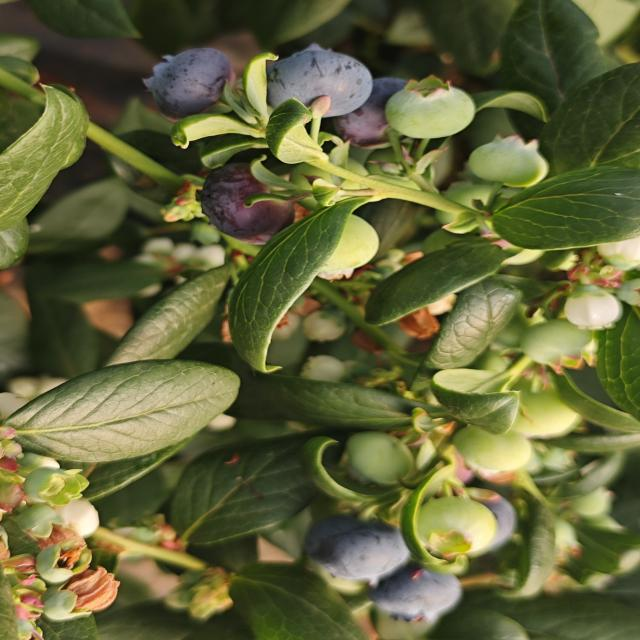ripe: (194, 150, 306, 247), (263, 44, 375, 120), (301, 512, 413, 587), (141, 45, 236, 121), (356, 564, 470, 626), (338, 71, 424, 153), (473, 489, 519, 556)
